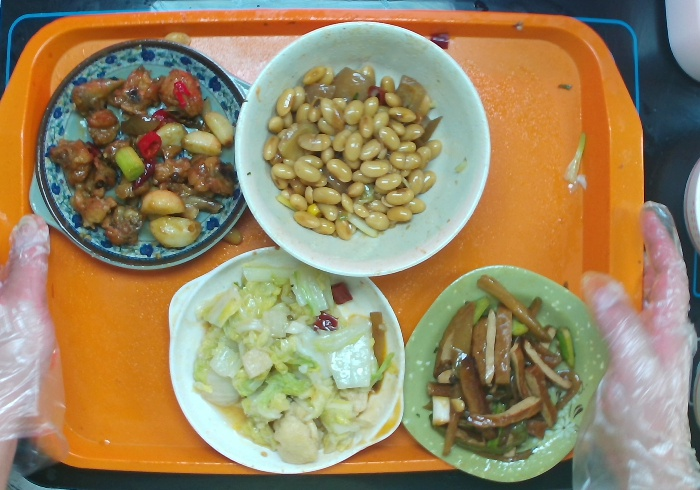NLDX-Bai_Se_Shuang_Er_Die: (164, 239, 412, 478)
NLDX-Bai_Se_Yuan_Wan: (232, 21, 494, 279)
NLDX-Lv_Hua_Fang_Die: (405, 263, 602, 487)
NLDX-Qing_Hua_Shuang_Er_Die: (24, 34, 250, 274)
